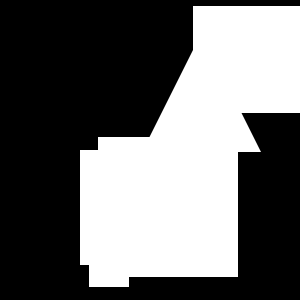circle: (98, 137, 238, 277), (80, 150, 195, 265), (193, 6, 300, 113), (89, 247, 129, 287)
triangle: (142, 33, 261, 152)
